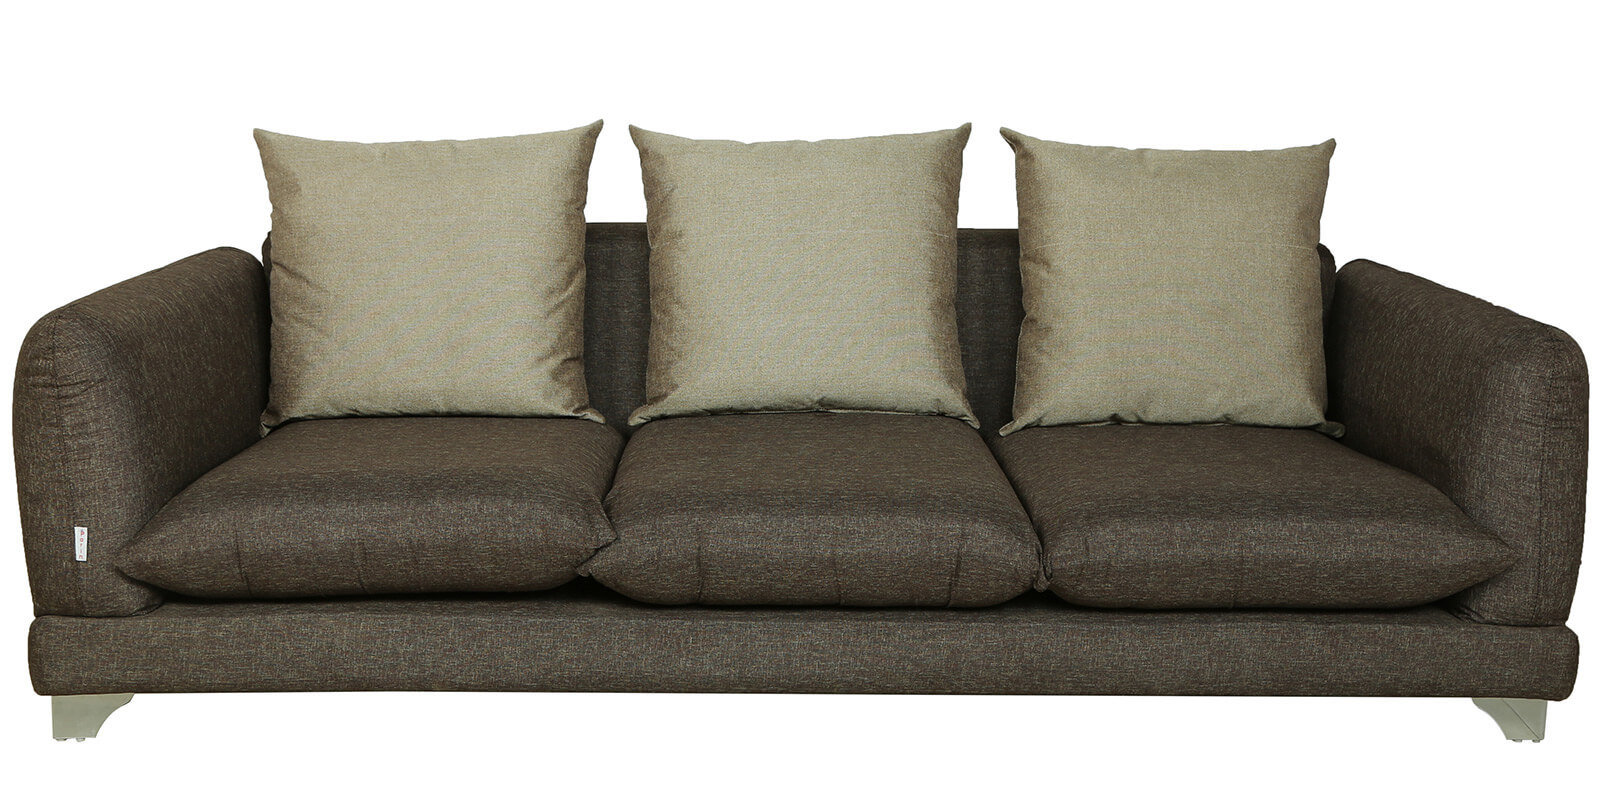Exclusive Three Seater Sofa in Dark Grey Colour by Parin: (13, 110, 1582, 761)
